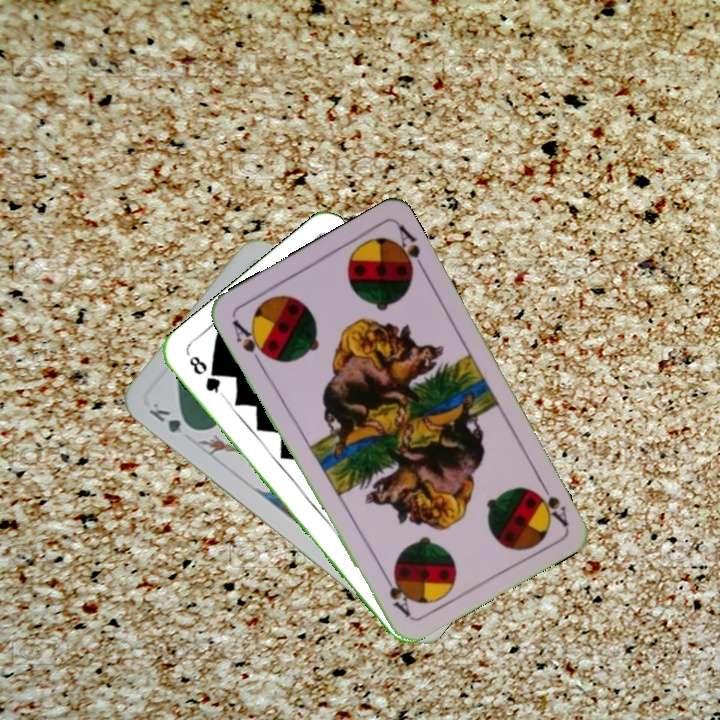G8: (185, 351, 227, 400)
GK: (144, 398, 199, 436)
SA: (228, 315, 272, 368), (531, 474, 571, 529)
